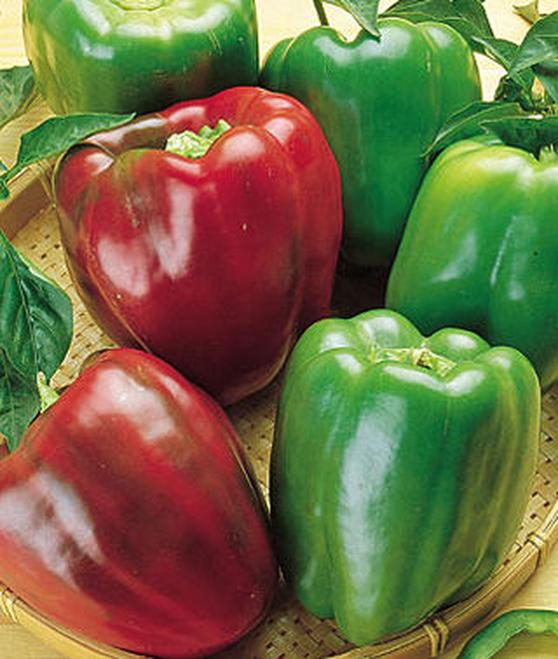pepper: (62, 87, 342, 399), (6, 350, 278, 649)
